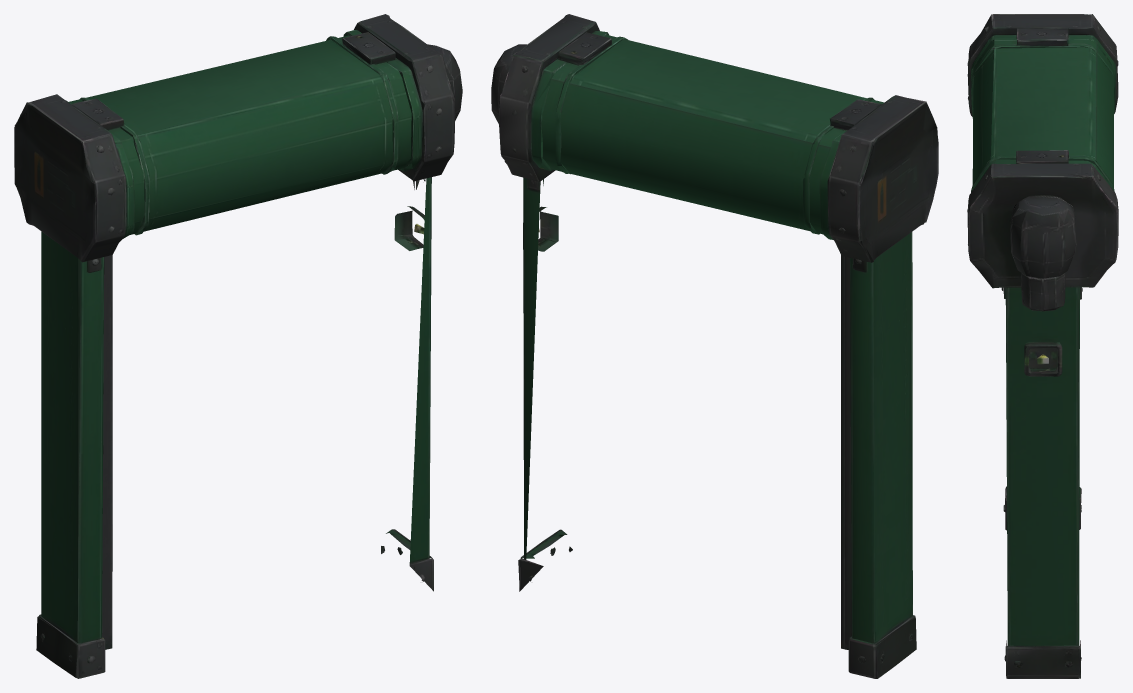
The model's file is automatic-loading-door-frame.glb.
3 views of the same model, side by side, from view 1: azimuth 30°, elevation 25°; view 2: azimuth 150°, elevation 25°; view 3: azimuth 270°, elevation 25° (orthographic). The views are drawn at different scales.
Parts seen in each view (by area): view 1: geometry_0; view 2: geometry_0; view 3: geometry_0.
Boxes of the visible parts, x1,y1,x2,y2 form: geometry_0: [14, 14, 462, 678]; geometry_0: [491, 14, 938, 678]; geometry_0: [967, 14, 1118, 678].
Bounding box in the file's own units: 0.7754 × 1 × 0.2734.
Materials: 1 (1 with a texture image).
